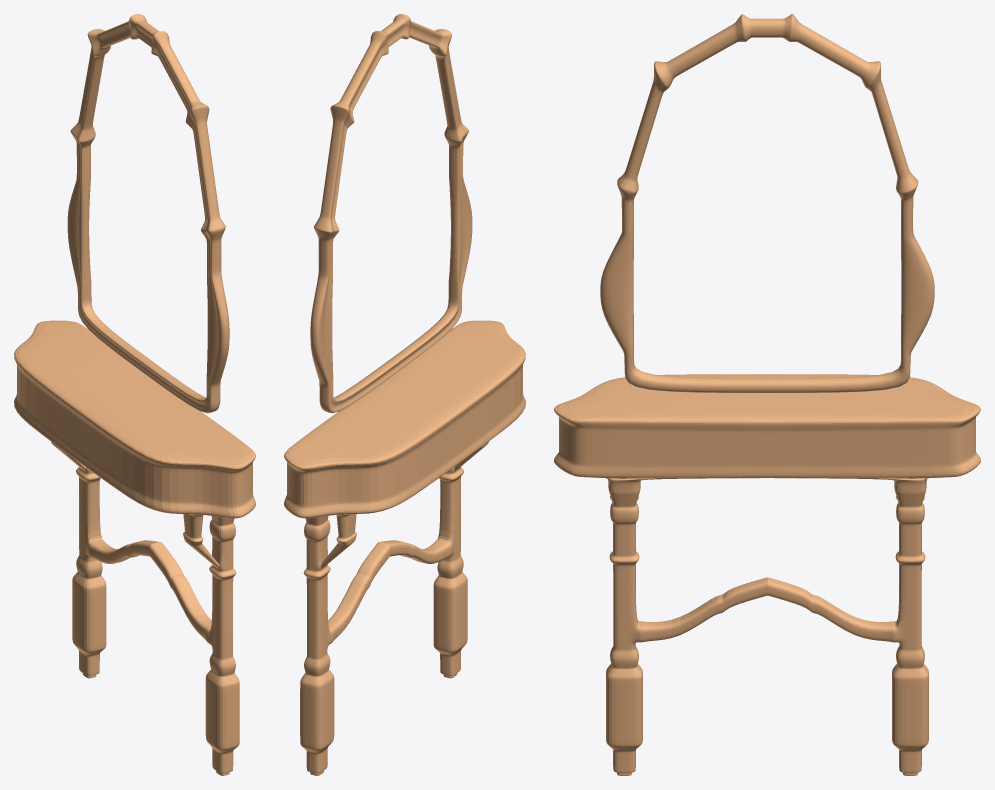
The model's file is sceneryObjects.fbx.
3 renders of one model, left to right at view 1: azimuth 30°, elevation 25°; view 2: azimuth 150°, elevation 25°; view 3: azimuth 270°, elevation 25°, orthographic. The views are drawn at different scales.
Parts seen in each view (by area): view 1: table, mirrorFrame; view 2: table, mirrorFrame; view 3: table, mirrorFrame.
Part boxes in pixels (x1,y1,x2,y2): table: (14,320,255,775); mirrorFrame: (67,14,229,413); table: (284,320,525,775); mirrorFrame: (310,14,472,413); table: (554,374,980,775); mirrorFrame: (600,14,934,392).
Size of the model in its own units: 24.27 by 178 by 91.31.
